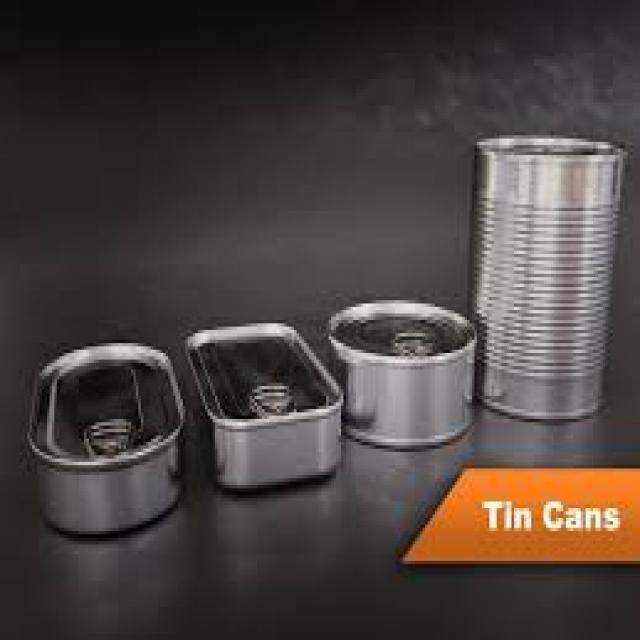recyclable: (467, 132, 623, 422), (24, 336, 186, 534), (183, 316, 341, 488), (324, 294, 474, 448)
